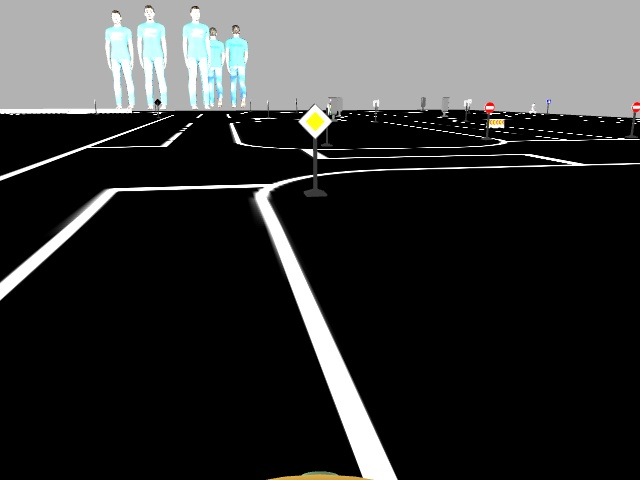ClosedRoadStand: (488, 116, 505, 129)
NoEntry: (481, 100, 495, 113), (630, 100, 639, 114)
Priority: (294, 102, 333, 139)
